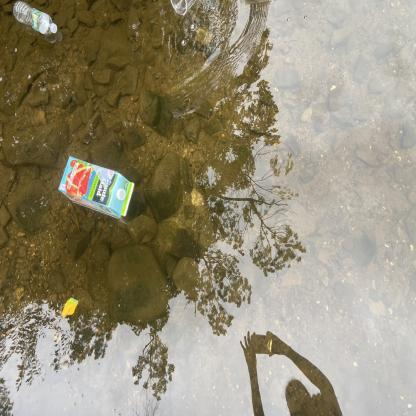trash: (56, 153, 140, 225), (9, 0, 62, 40)
